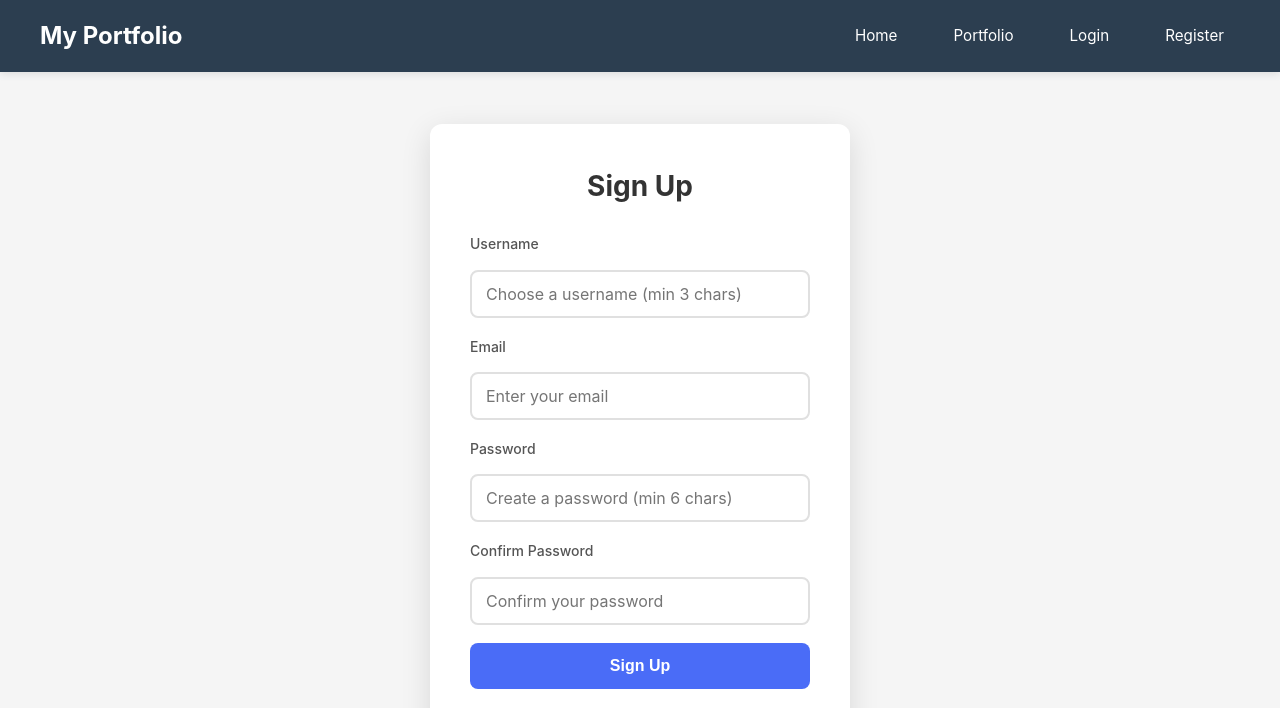
it: Authentication Flow › Sign Up › should show error for duplicate email
In the field with placeholder "Choose a username (min 3 chars)": (640, 294) x1=470 y1=270 x2=810 y2=318, type "seconduser"
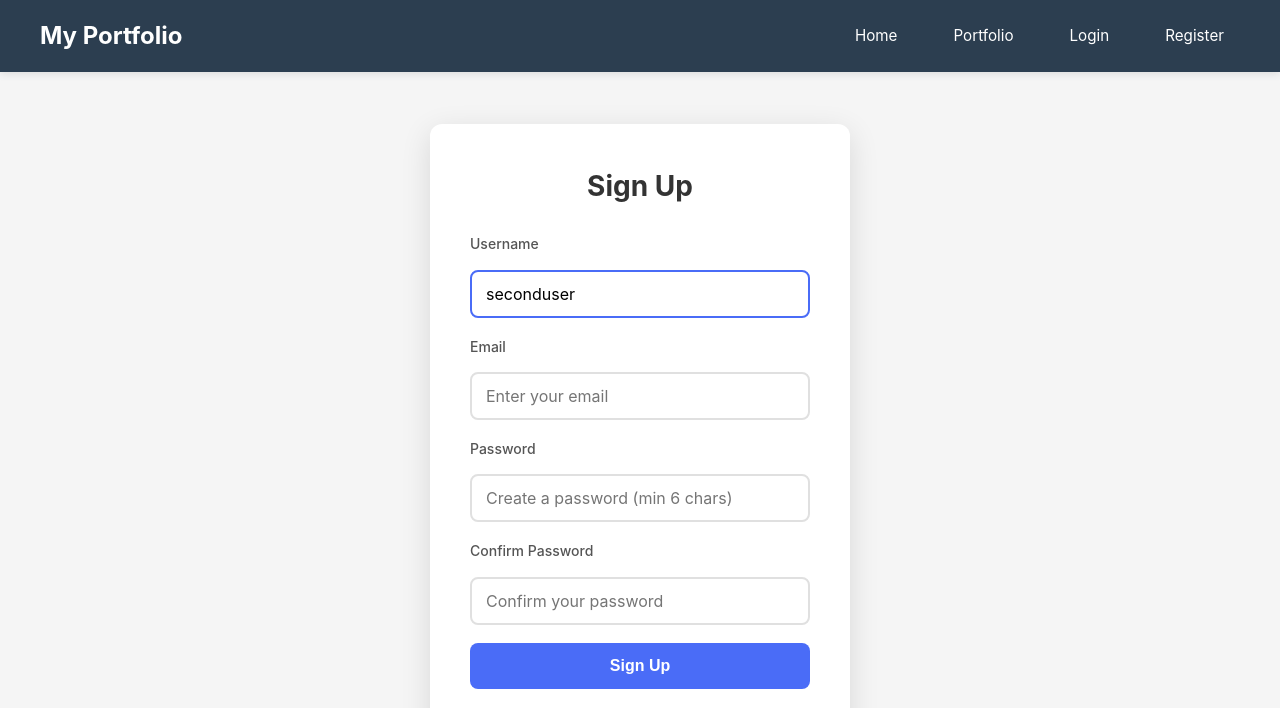
In the field with placeholder "Enter your email": (640, 396) x1=470 y1=372 x2=810 y2=420, type "first@test.com"
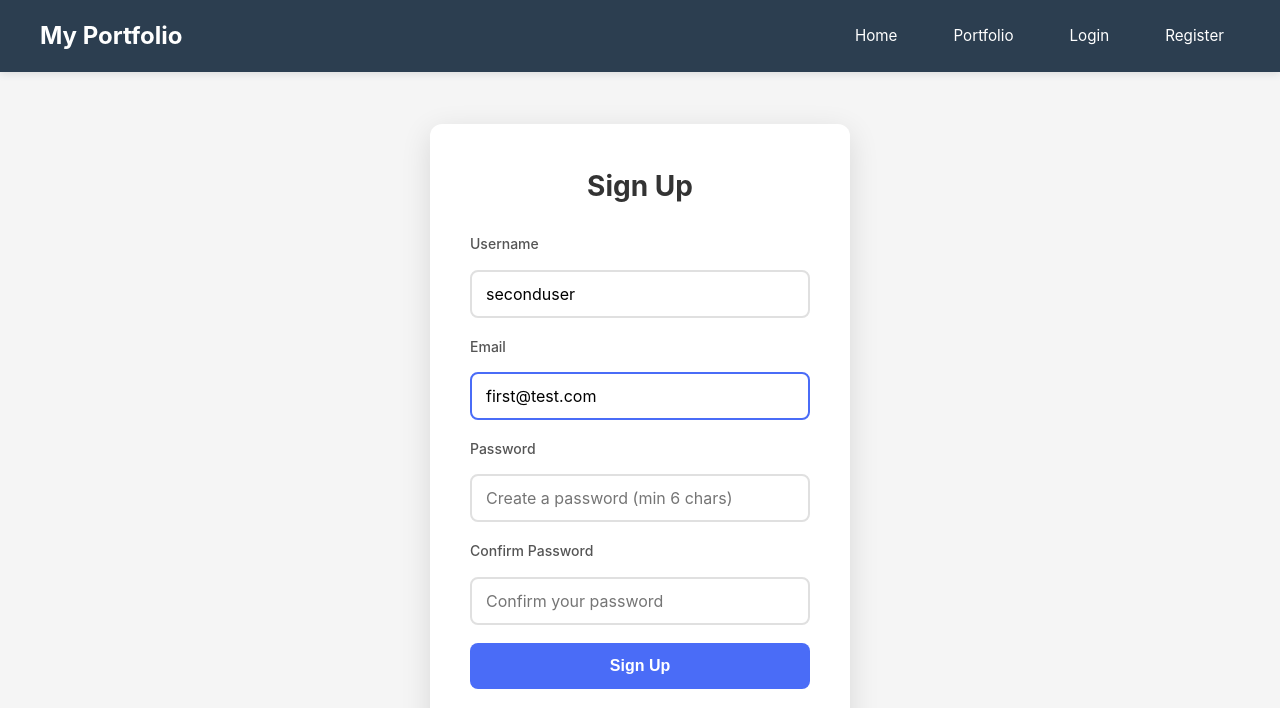
In the password field with placeholder "Create a password (min 6 chars)": (640, 498) x1=470 y1=474 x2=810 y2=522, type "password123"
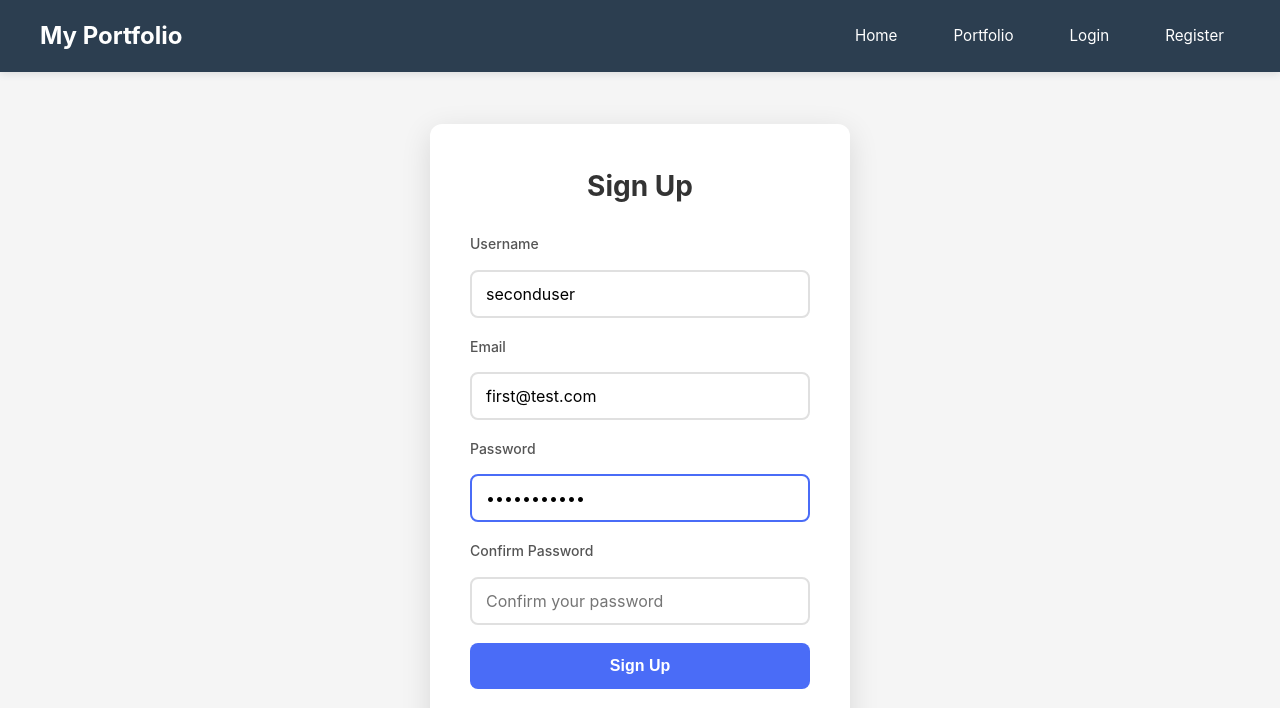
In the password field with placeholder "Confirm your password": (640, 601) x1=470 y1=577 x2=810 y2=625, type "password123"
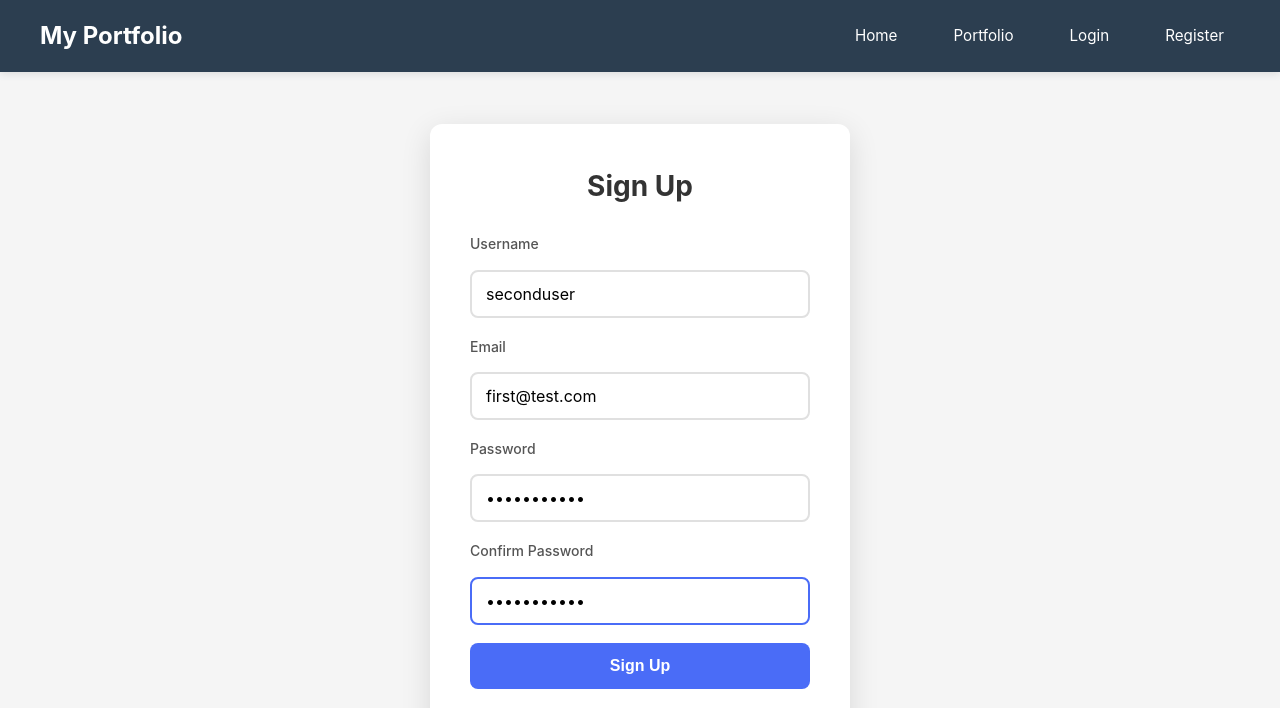
Click the submit button: (640, 666) x1=470 y1=643 x2=810 y2=689
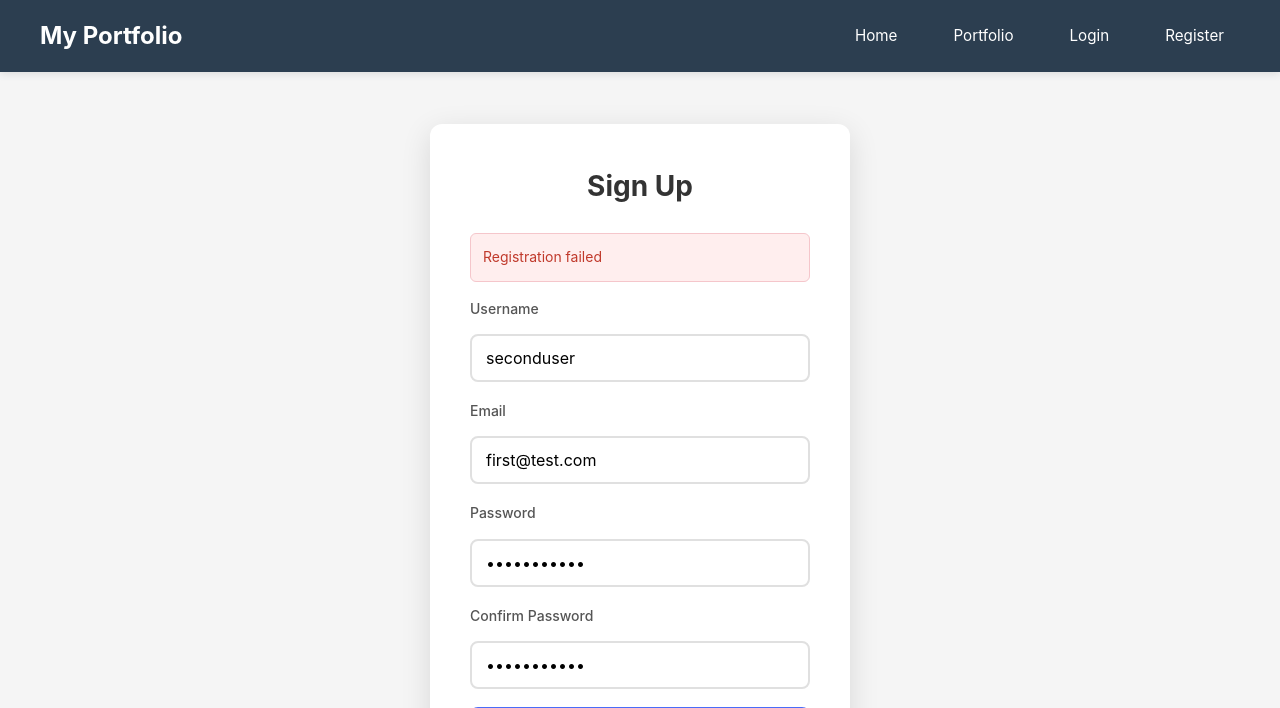
Expected: the text "Registration failed" is shown, x1=470 y1=233 x2=810 y2=282
